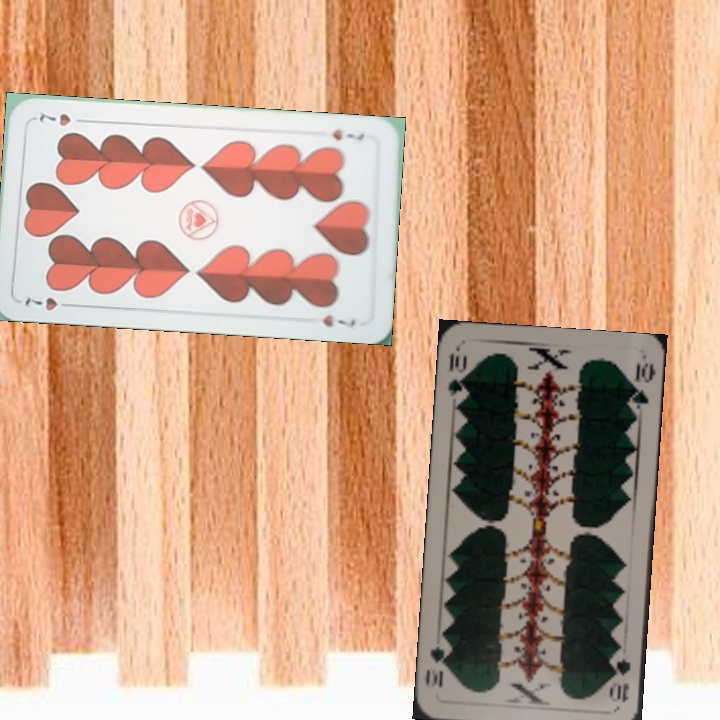G10: (443, 349, 470, 405), (608, 654, 633, 706)
H7: (20, 293, 77, 313), (328, 125, 366, 144)
